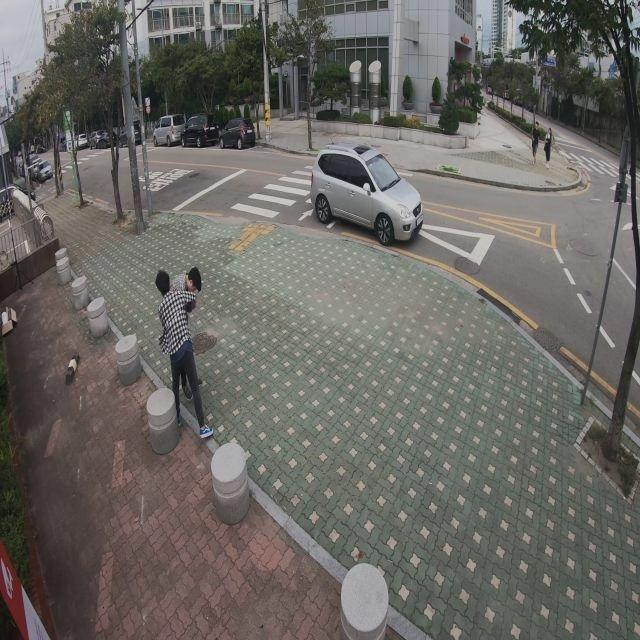fight: (156, 266, 216, 443)
